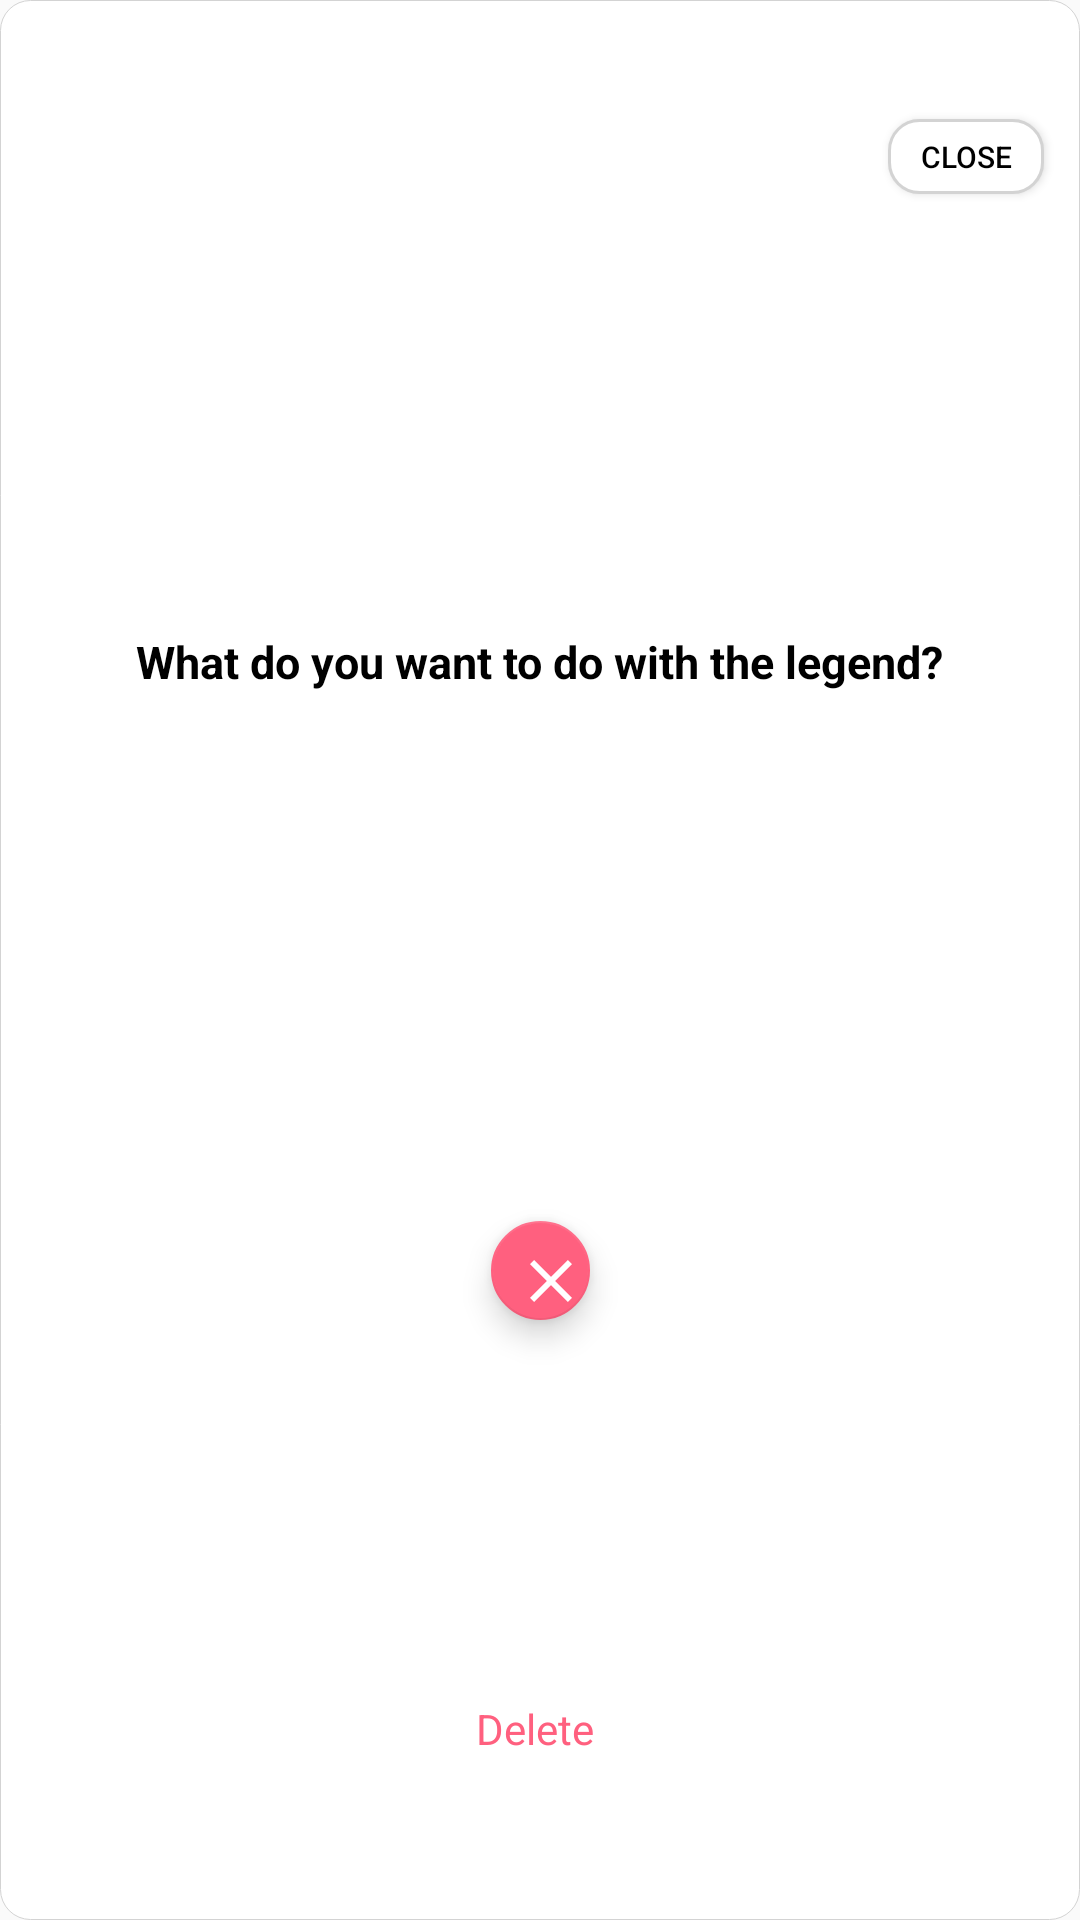

Named icons in this screenshot (1080×1920) and their bounding boxes, (x1, y1, x2, y2):
clear: (491, 1221, 590, 1320)
